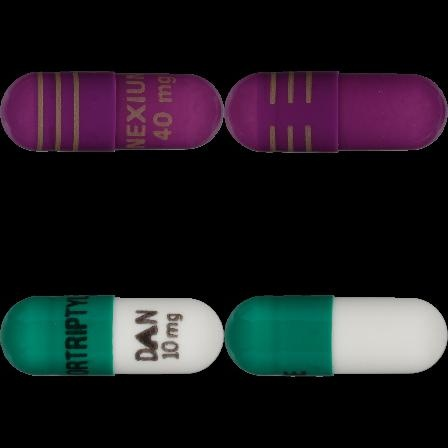21695-092: (0, 0, 224, 224)
